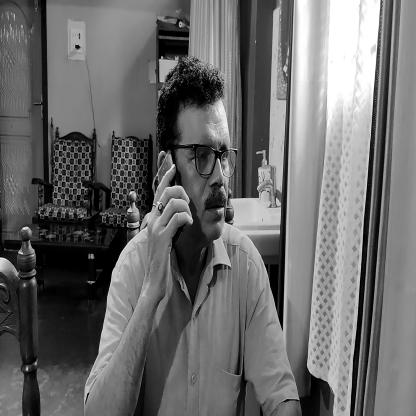Distracted: (160, 56, 232, 240)
